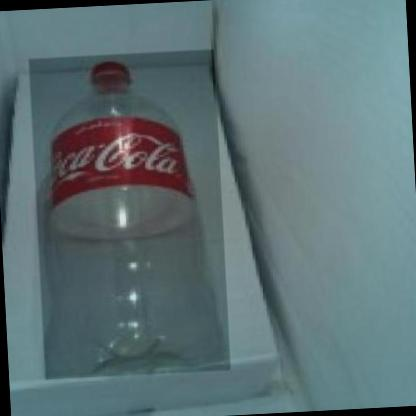plastic_bottles: (29, 49, 230, 379)
